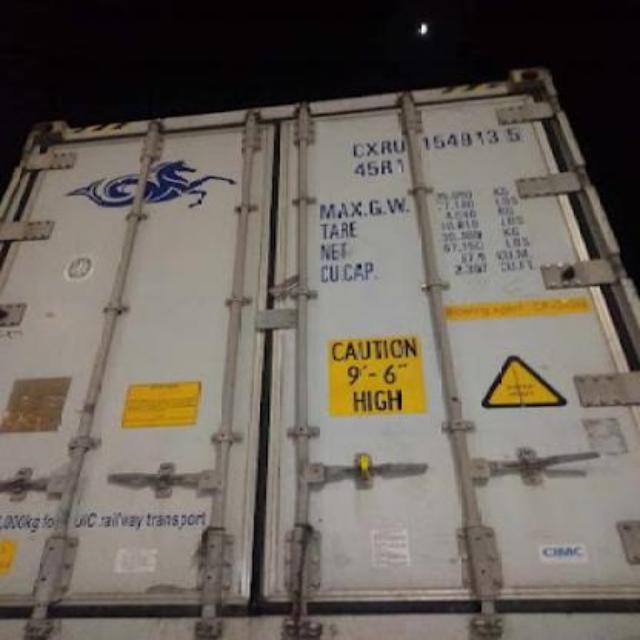1: (422, 136, 432, 152), (476, 130, 486, 146)
3: (486, 129, 499, 145)
4: (447, 132, 459, 150)
5: (505, 126, 521, 144), (432, 134, 446, 150)
9: (460, 132, 474, 148)
C: (352, 143, 364, 159)
R: (381, 140, 392, 156)
U: (392, 140, 406, 154)
X: (366, 142, 378, 156)
